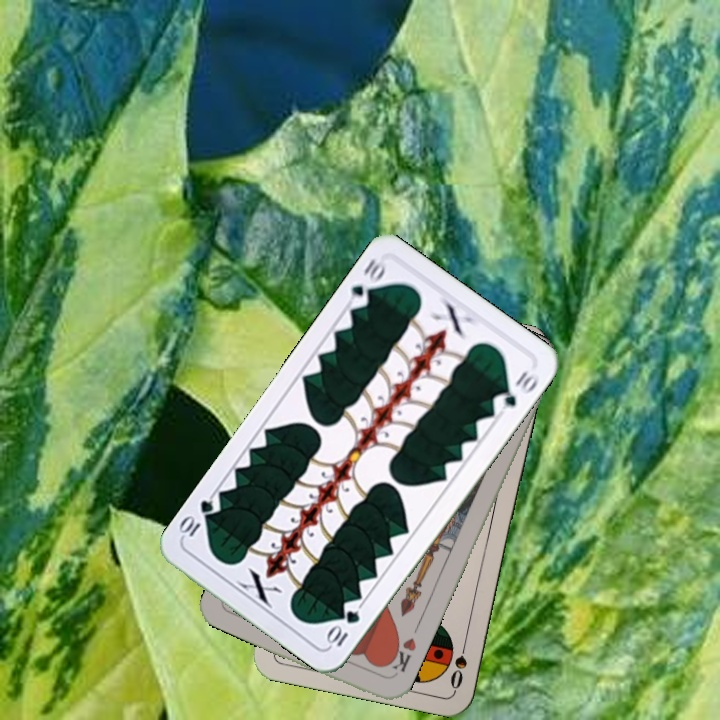G10: (344, 254, 388, 312), (323, 606, 363, 650)
HK: (382, 633, 419, 680)
SO: (446, 633, 470, 692)
